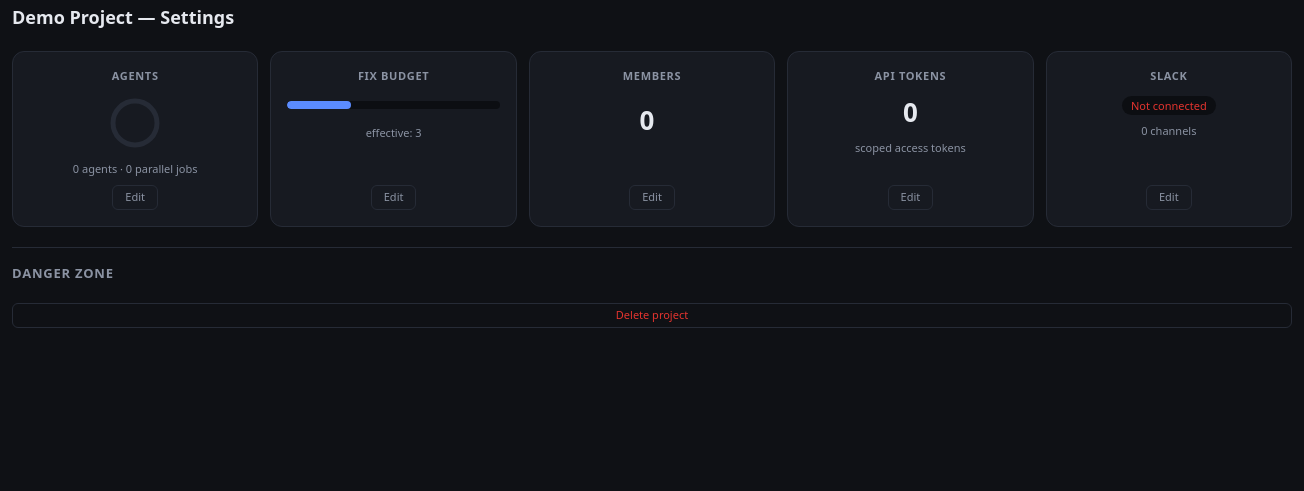
Scenario: WorkspaceSettings danger zone › reveals a text input on click; confirm stays disabled until the typed name matches
Click the button "Delete project". click: (652, 315)
box: [12,303,1292,328]
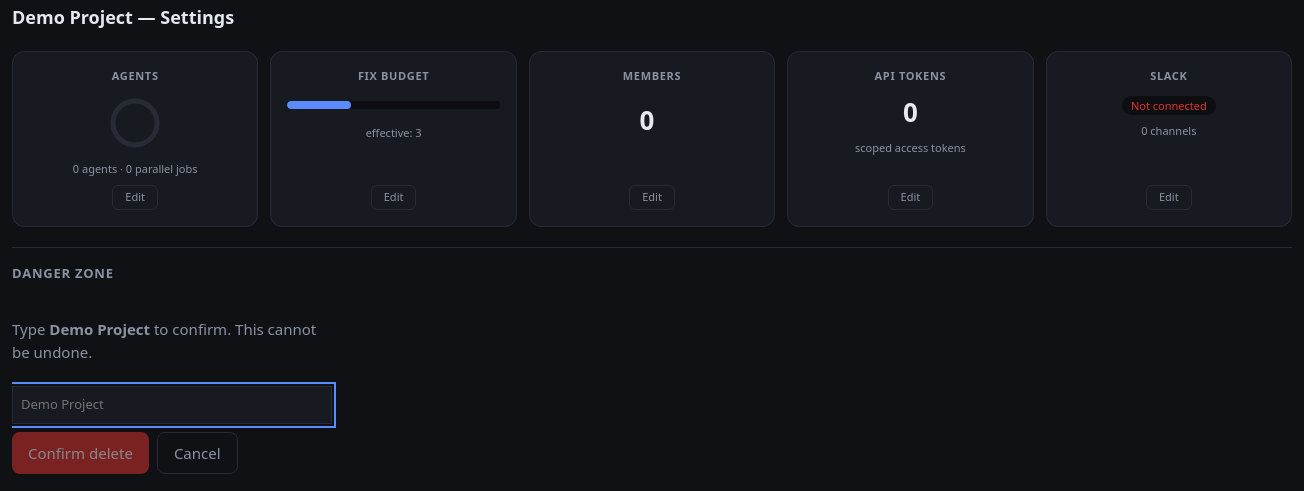
Now the field with placeholder "Demo Project" is shown
Now the button "Confirm delete" is disabled, box [12,432,149,474]
Type "wrong name" into the field with placeholder "Demo Project". click: (172, 405)
box: [12,386,332,424]
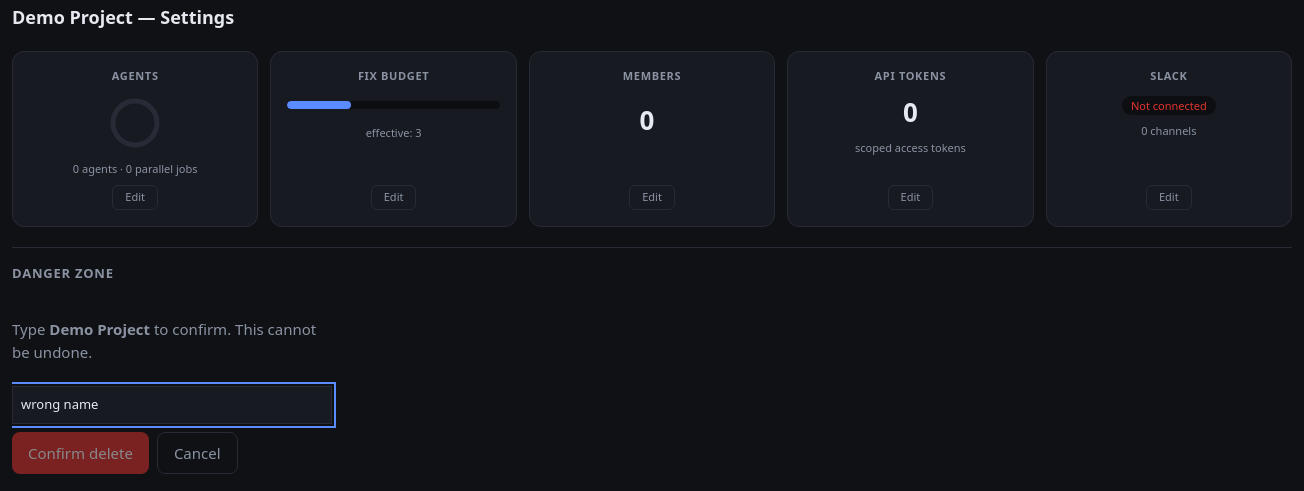
Now the button "Confirm delete" is disabled, box [12,432,149,474]
Replace the text in the field with placeholder "Demo Project" with "Demo Project". click: (172, 405)
box: [12,386,332,424]
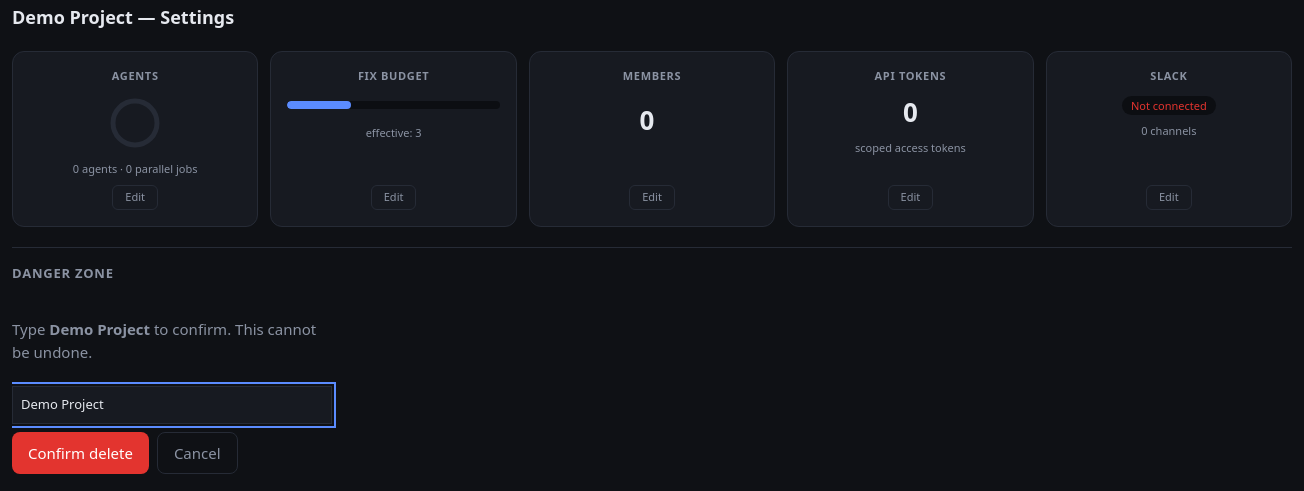
Now the button "Confirm delete" is enabled, box [12,432,149,474]
